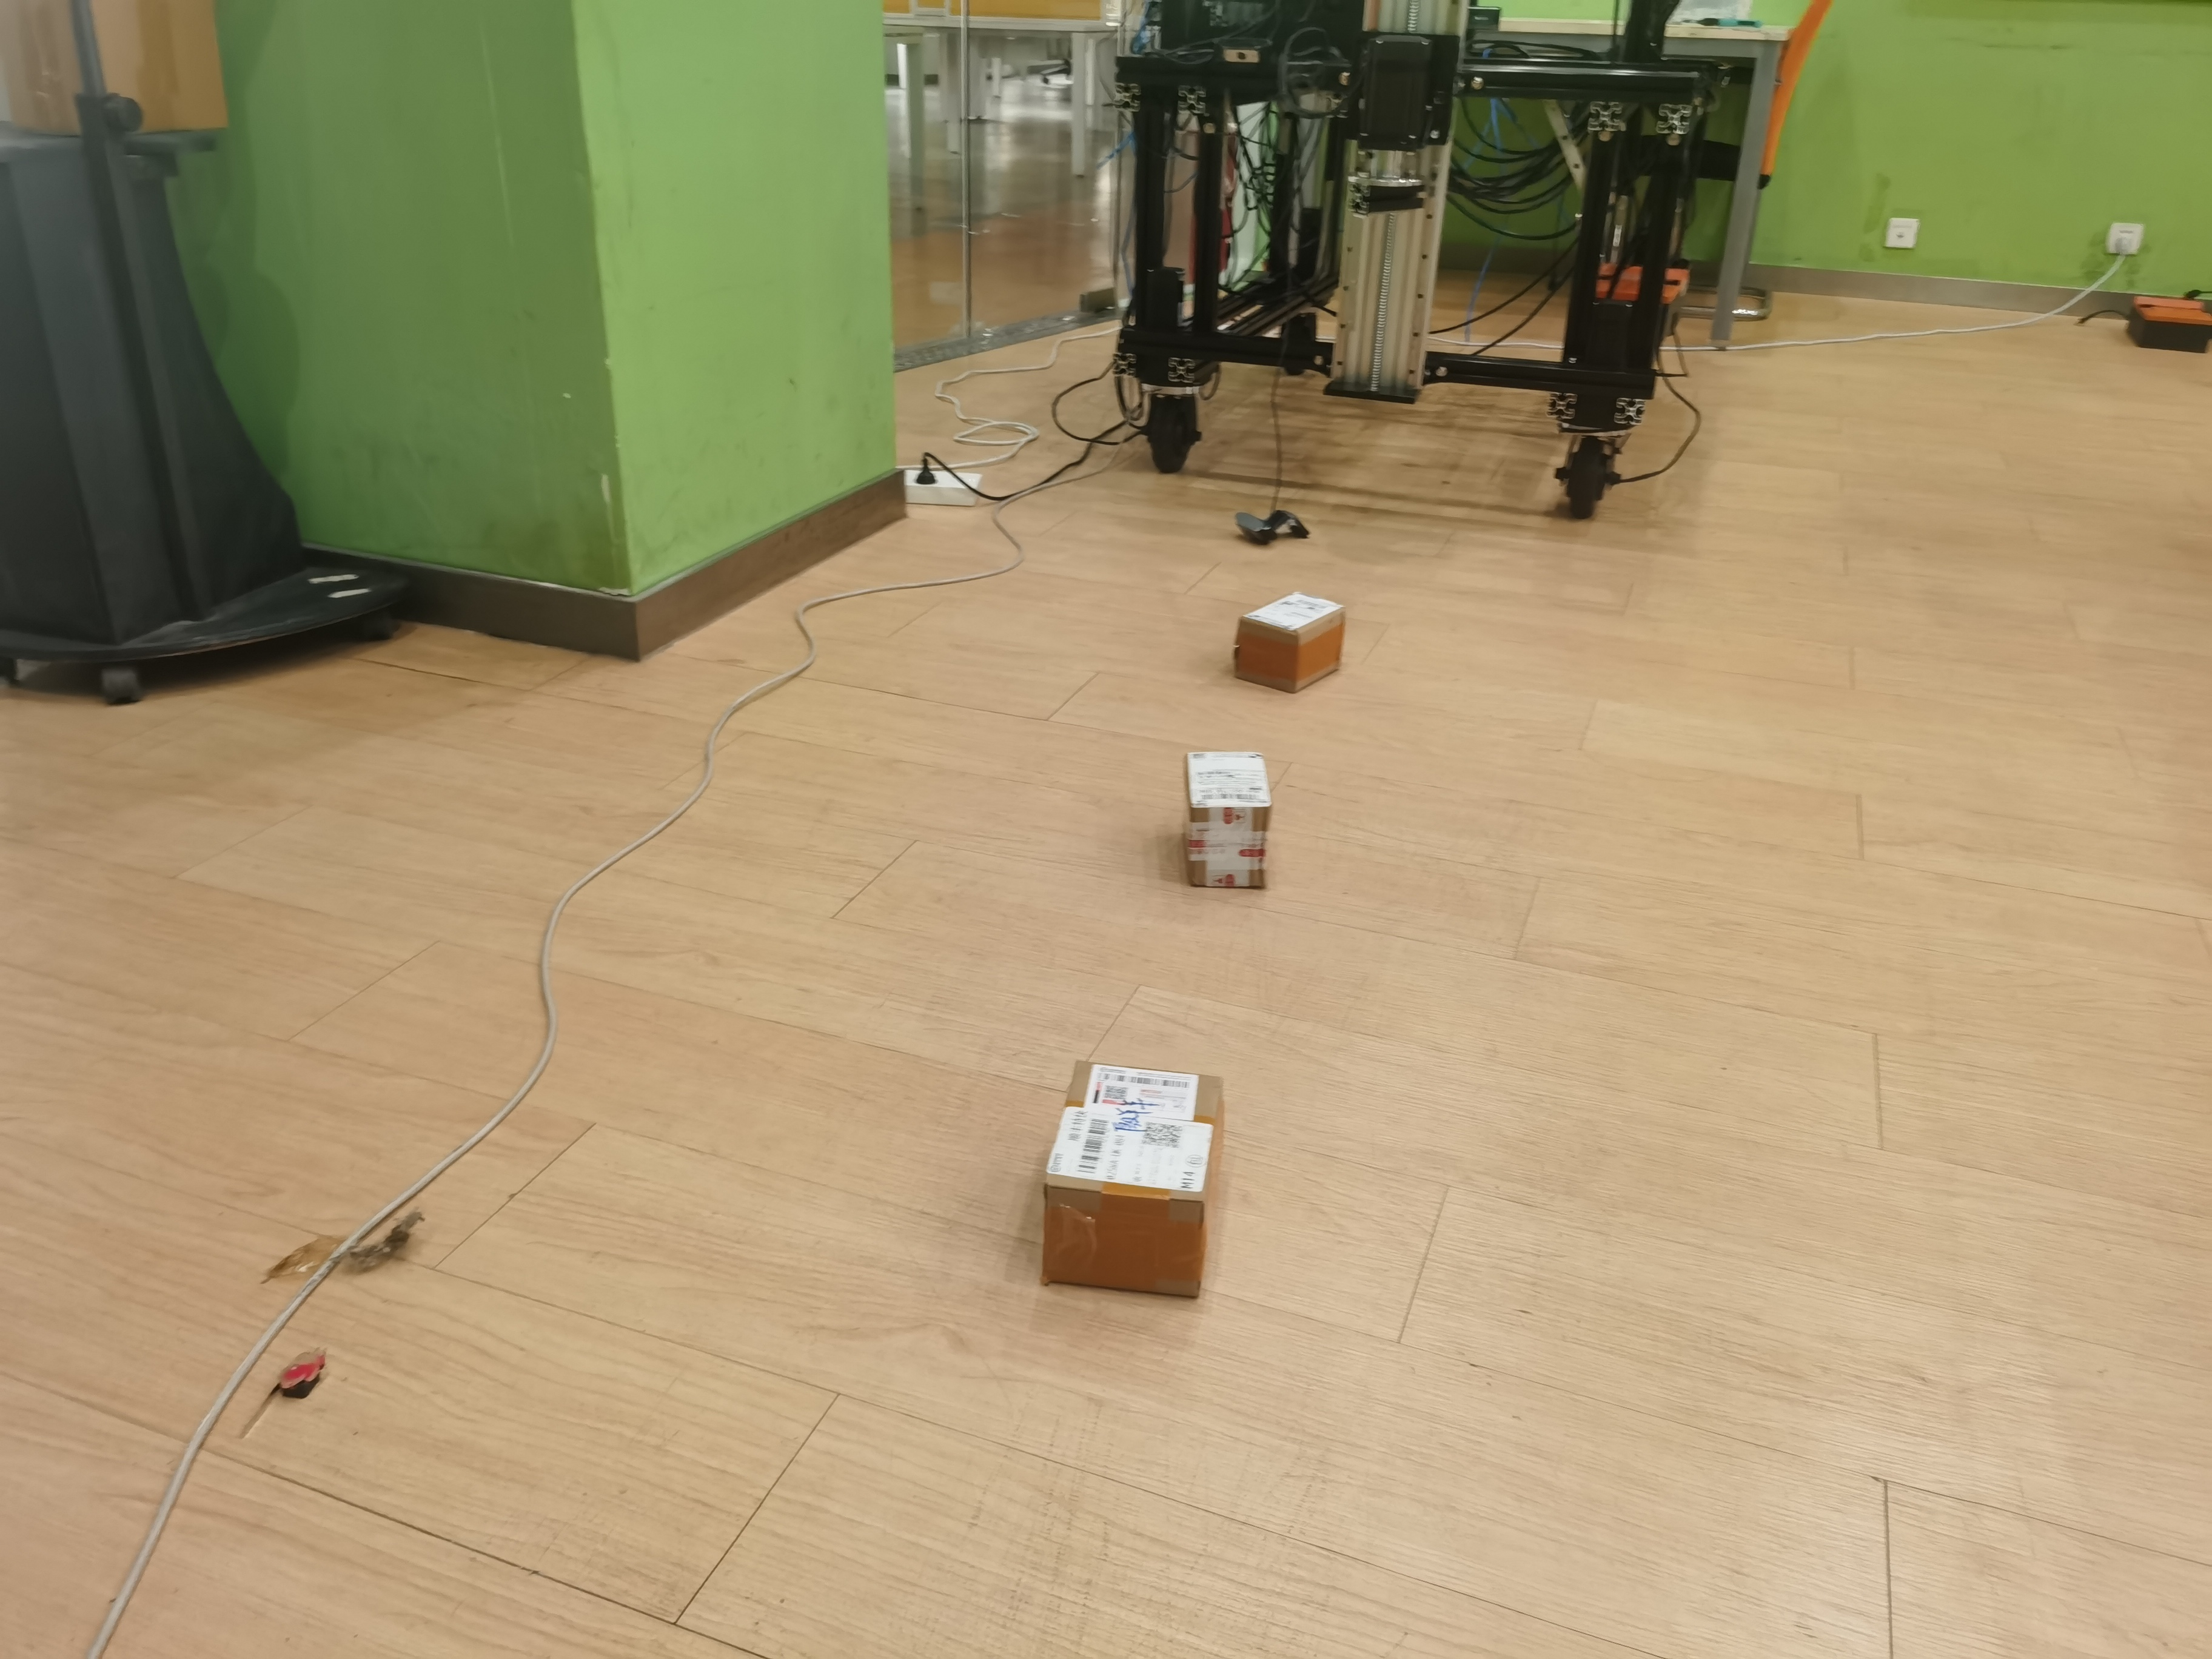box: (1029, 1040, 1247, 1307), (1162, 741, 1298, 899), (1228, 577, 1359, 704)
